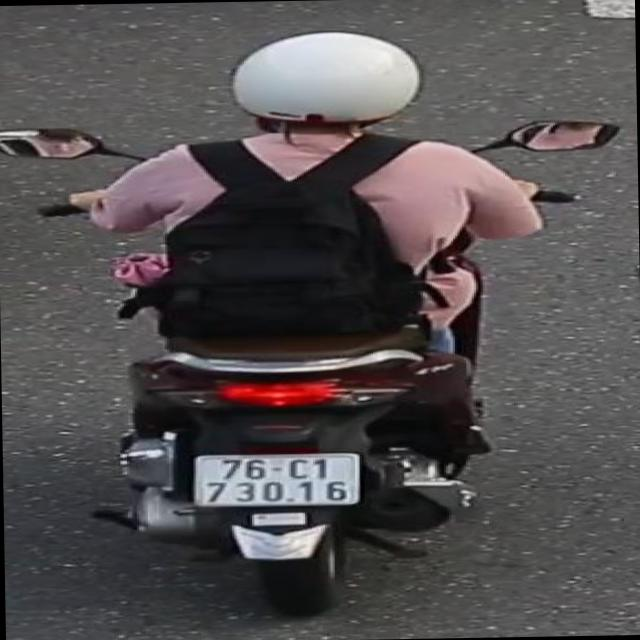LP: (188, 448, 366, 514)
helmet: (222, 23, 430, 154)
